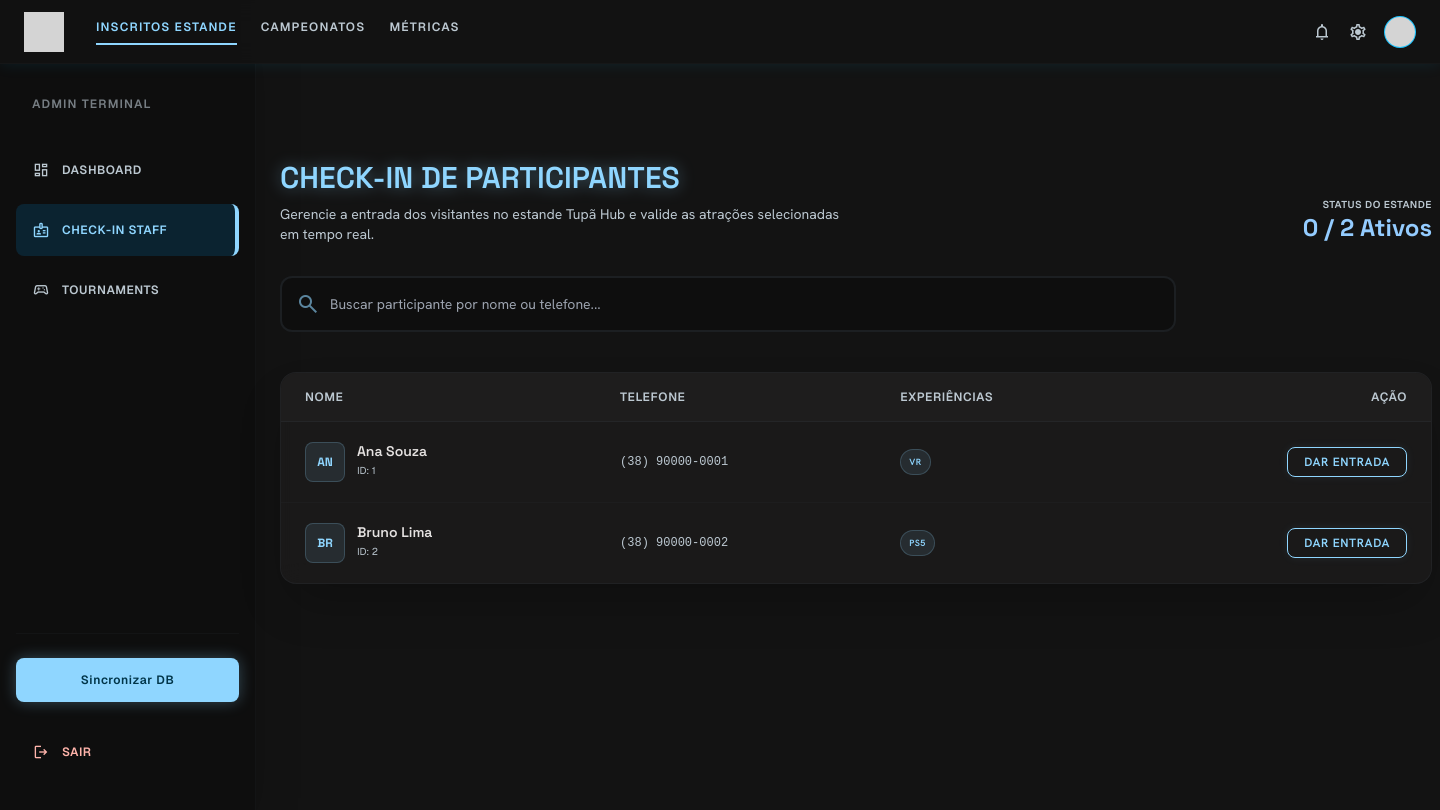
StaffCheckIn — check-in sem piscar › marca a linha como confirmada imediatamente (update otimista)
expect the text "Confirmado" is not shown: met
Click the button "Dar Entrada" in the row of "Ana Souza" at (1347, 462), box [1287, 447, 1407, 477]
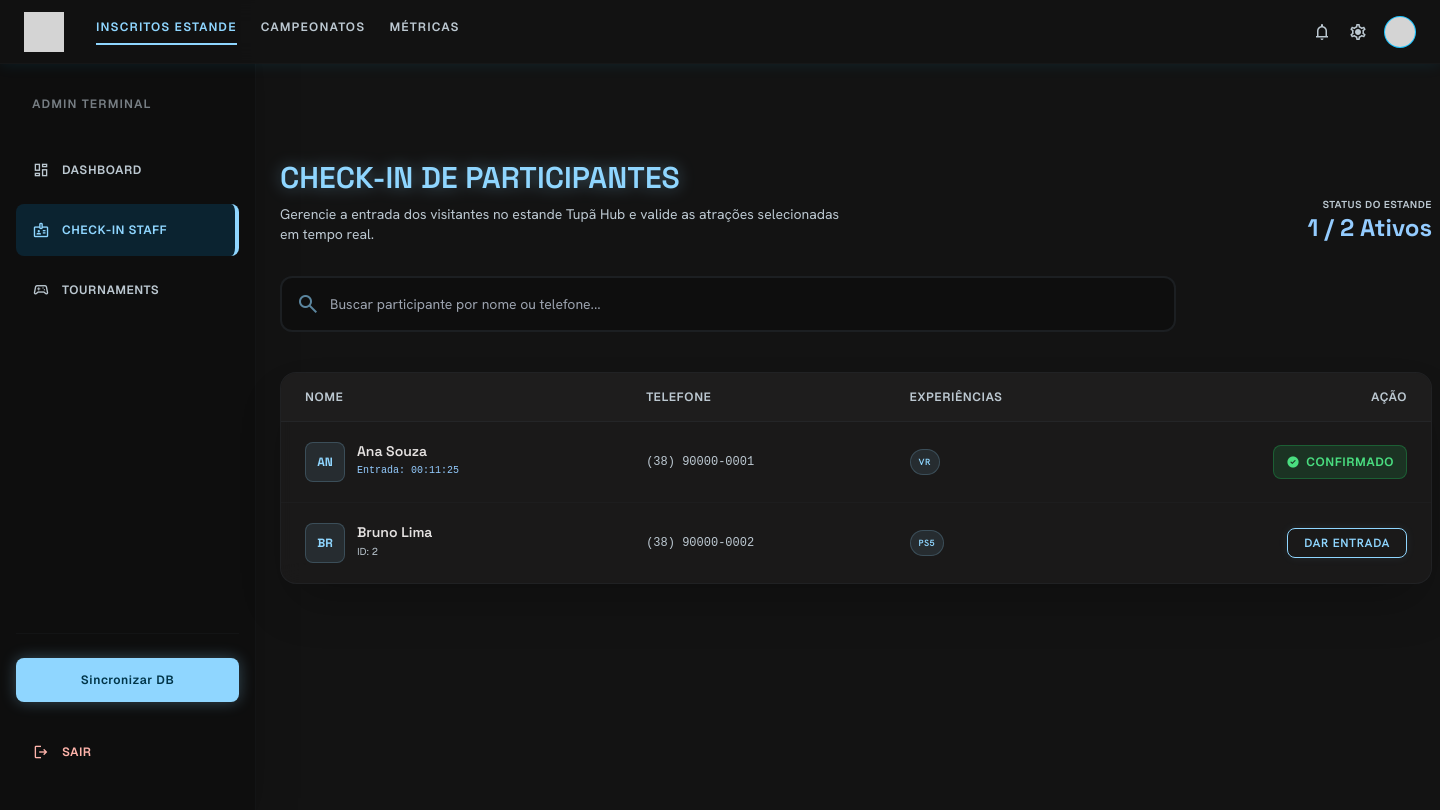
expect the text "Confirmado" is shown: met, box [1306, 454, 1394, 470]
